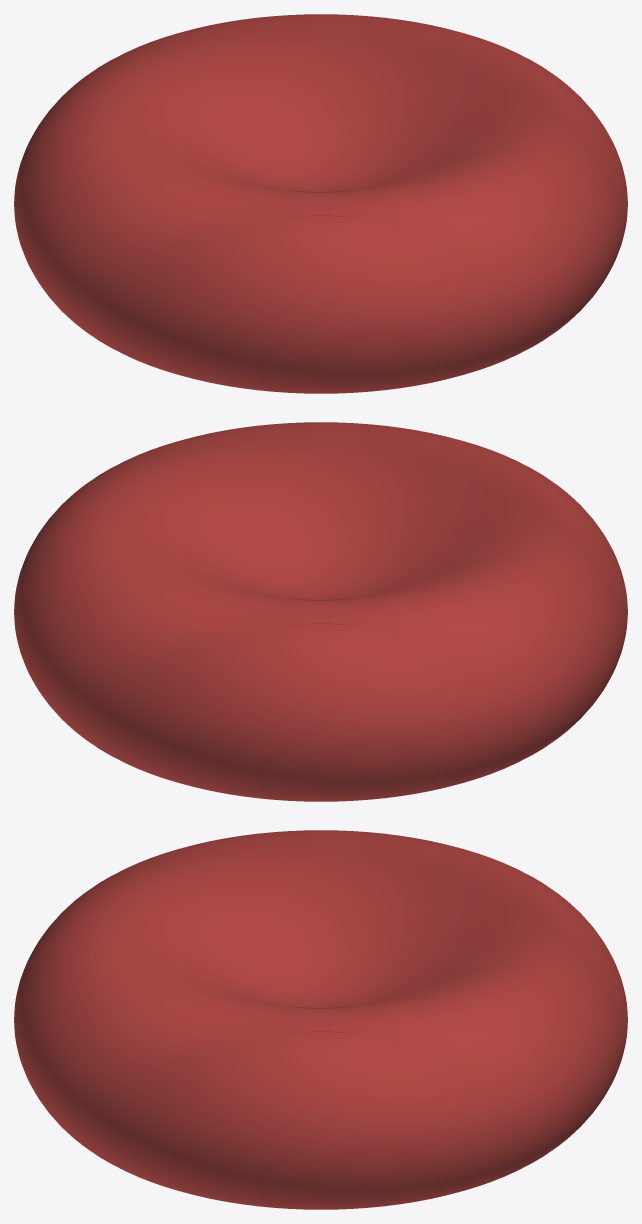
File: rbc.glb
The picture shows the model from 3 angles, top to bottom: view 1: azimuth 30°, elevation 25°; view 2: azimuth 150°, elevation 25°; view 3: azimuth 270°, elevation 25°; orthographic projection.
Visible parts, largest first — view 1: rbc_lod0; view 2: rbc_lod0; view 3: rbc_lod0.
Boxes of the visible parts, left/top/right/bottom form: rbc_lod0: left=14, top=14, right=627, bottom=393; rbc_lod0: left=14, top=422, right=627, bottom=801; rbc_lod0: left=14, top=830, right=627, bottom=1209.
Size of what is drawn, in the model's own units: 7.82 by 2.56 by 7.82.
